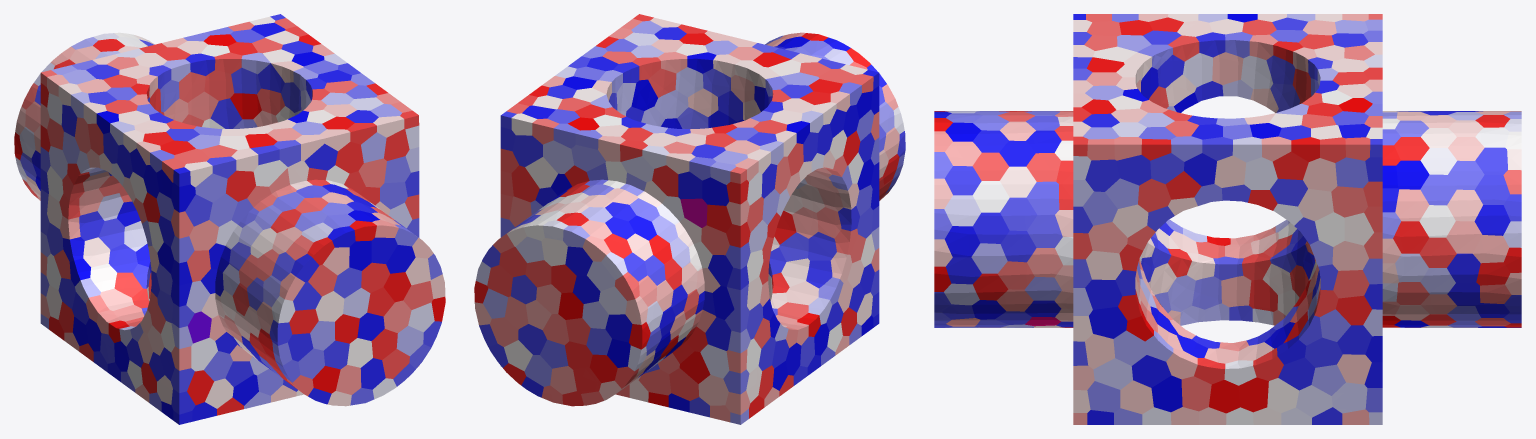
Rendered from Ours_1000_block_Iter53_RVD.obj.
The picture shows the model from 3 angles, left to right: view 1: azimuth 30°, elevation 25°; view 2: azimuth 150°, elevation 25°; view 3: azimuth 270°, elevation 25°; orthographic projection. The views are drawn at different scales.
Visible parts, largest first — view 1: 3D_Object; view 2: 3D_Object; view 3: 3D_Object.
Boxes of the visible parts, <box> form: 3D_Object: <box>14,14,445,424</box>; 3D_Object: <box>474,14,905,424</box>; 3D_Object: <box>934,14,1521,424</box>.
Size of the model in its own units: 20 by 20 by 38.
1 material, 1 textured.
